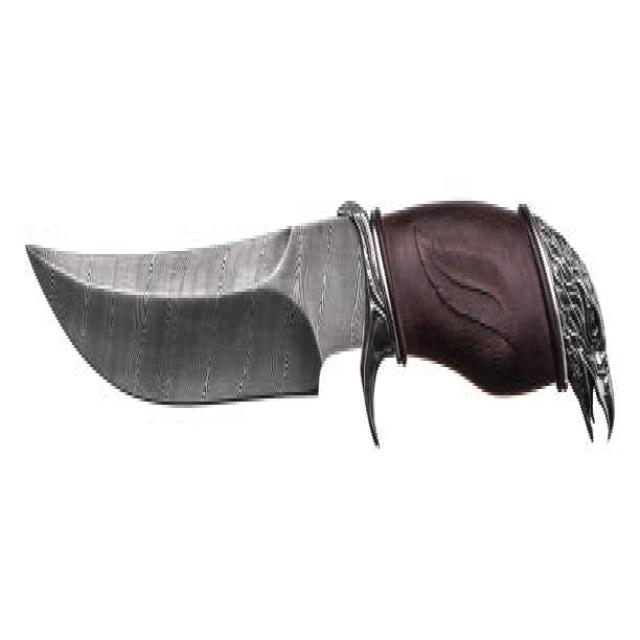knife: (23, 193, 619, 466)
